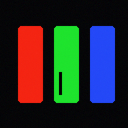4 line_v: (59, 72, 61, 94)
